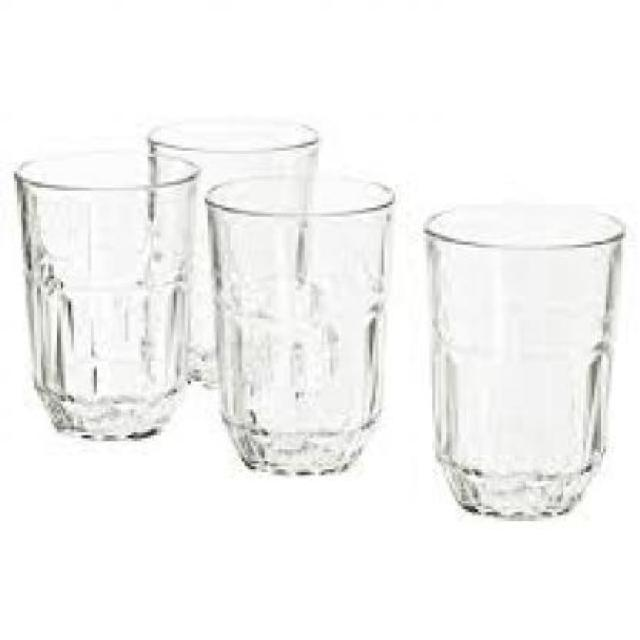kaca: (422, 200, 620, 515), (205, 174, 389, 475), (14, 144, 194, 436), (146, 110, 317, 382)
